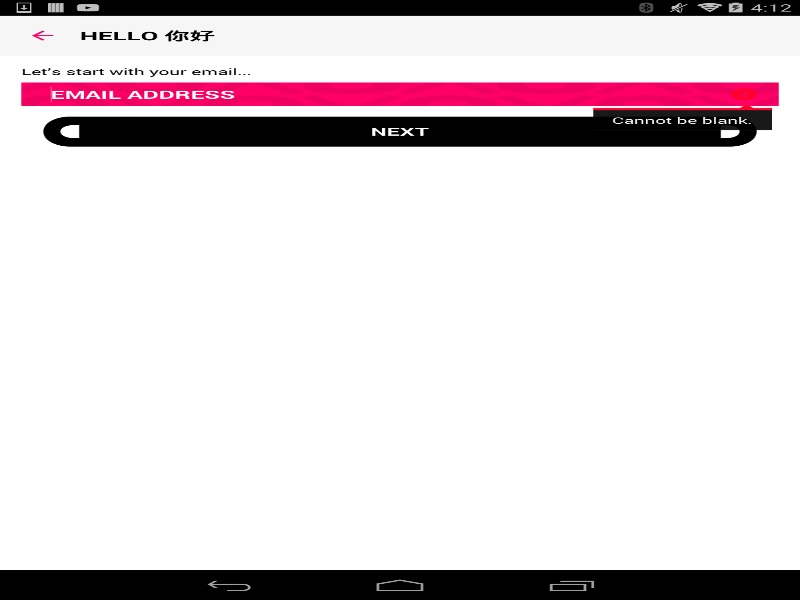Button: (42, 116, 757, 146), (0, 18, 74, 53)
Input: (21, 82, 778, 106)
